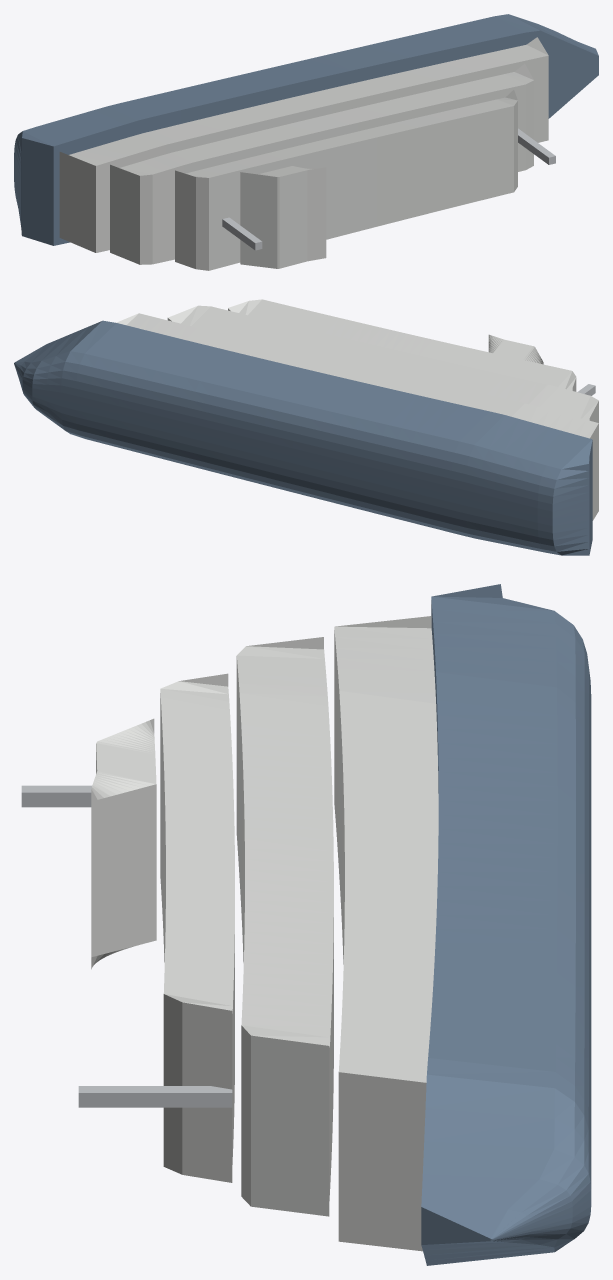
File: loft-cruise-ship-slender.glb
The picture shows the model from 3 angles, top to bottom: view 1: azimuth 30°, elevation 25°; view 2: azimuth 150°, elevation 25°; view 3: azimuth 270°, elevation 25°; orthographic projection. The views are drawn at different scales.
Parts seen in each view (by area): view 1: loft-cruise-ship-slender; view 2: loft-cruise-ship-slender; view 3: loft-cruise-ship-slender.
Boxes of the visible parts, box(x1,y1,x2,y2) form: loft-cruise-ship-slender: box(14, 14, 598, 270); loft-cruise-ship-slender: box(14, 299, 598, 555); loft-cruise-ship-slender: box(21, 584, 591, 1265).
Bounding box in the file's own units: 1.95 × 0.3512 × 0.8413.
